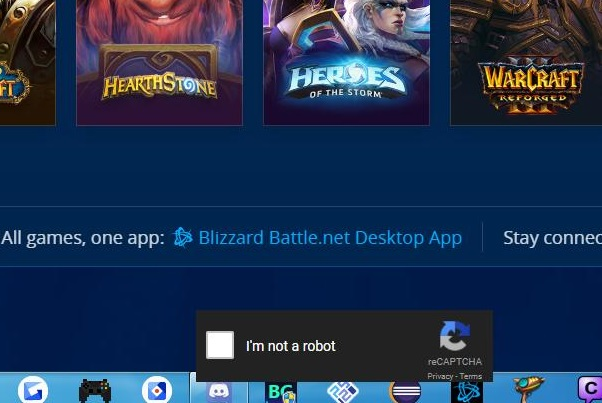captcha: (206, 330, 339, 360)
